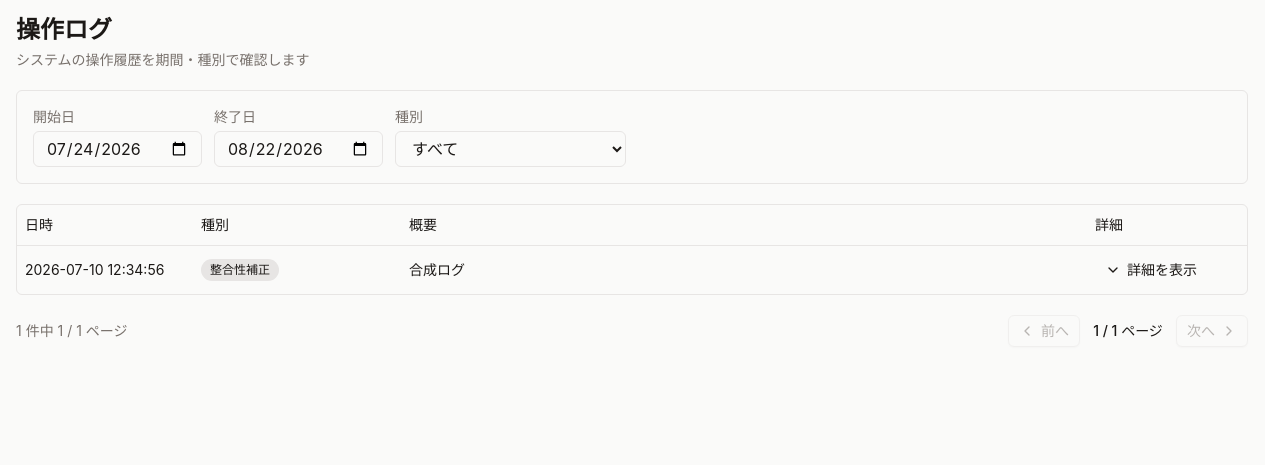
Test: UI-11c REQ-902 › test_operation_logs_req902_t12_degrades_malformed_adjustments_adjustments empty
The width and height of the screenshot is (1265, 465).
Click the button "詳細を表示". click: (1151, 270)
box: [1095,254,1207,286]
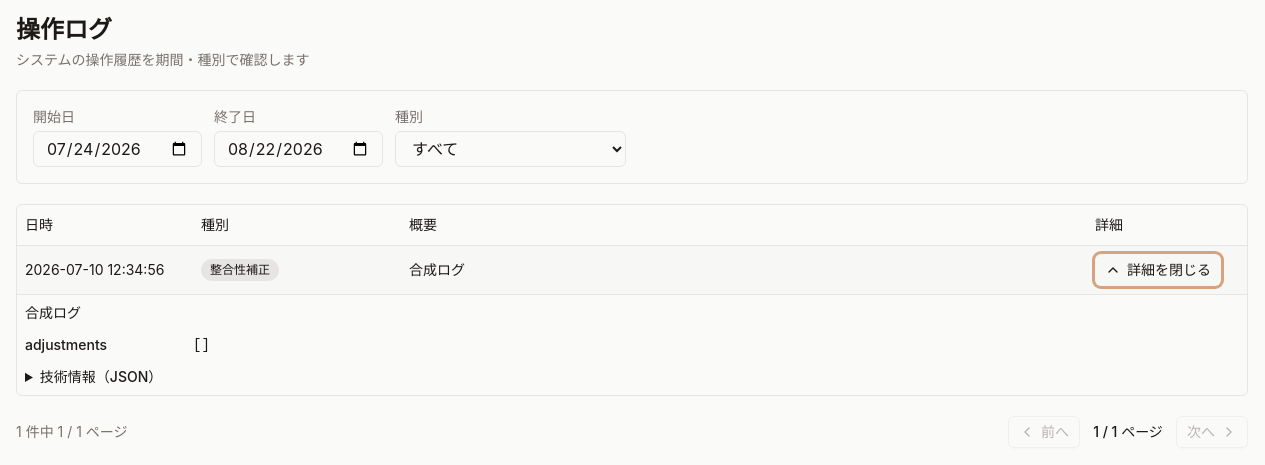
Check: the heading "技術情報（JSON）" is shown, box [40,368,162,384]
Check: the element named "ログ詳細の要約" is shown, box [25,334,1239,354]
Check: the text "adjustments" is shown, box [25,336,107,352]
